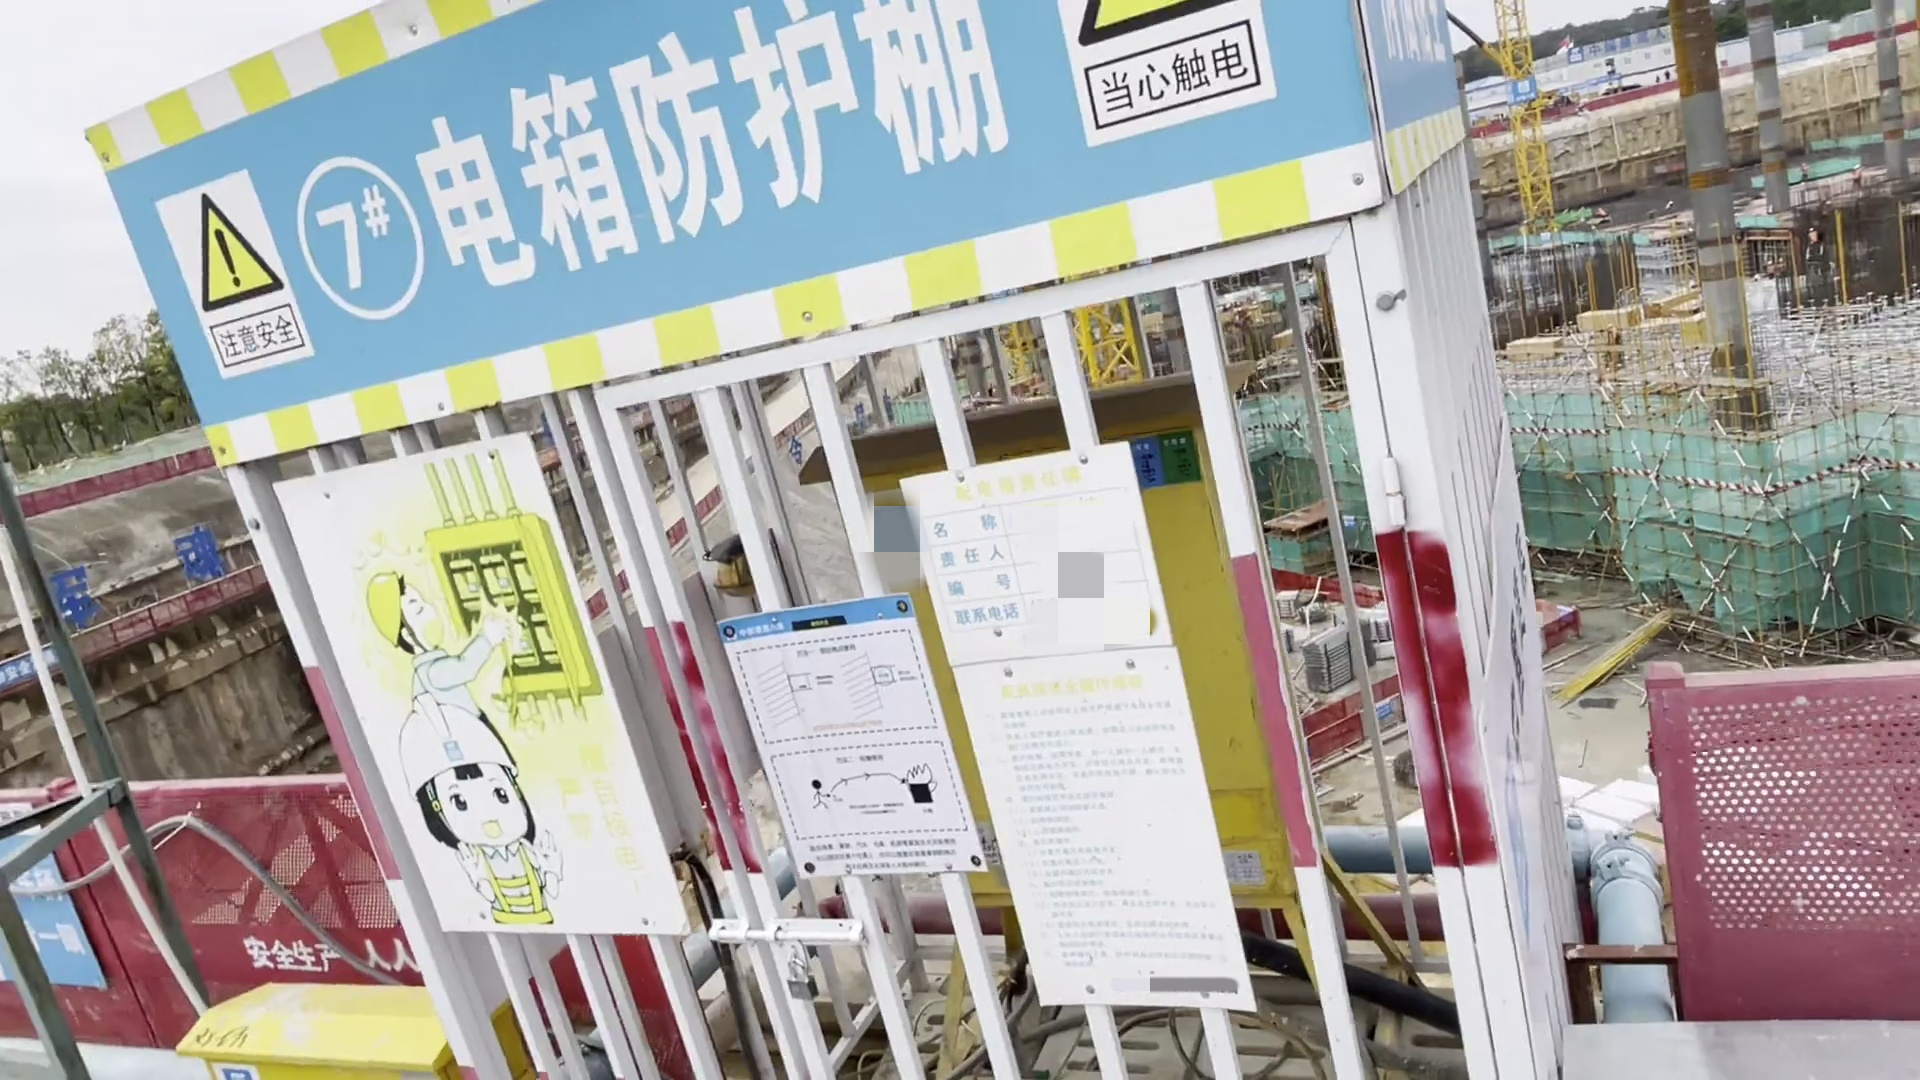ebox: (171, 975, 440, 1080)
fence: (1630, 636, 1920, 1029)
slogan: (207, 1, 1377, 469), (266, 452, 709, 964)
